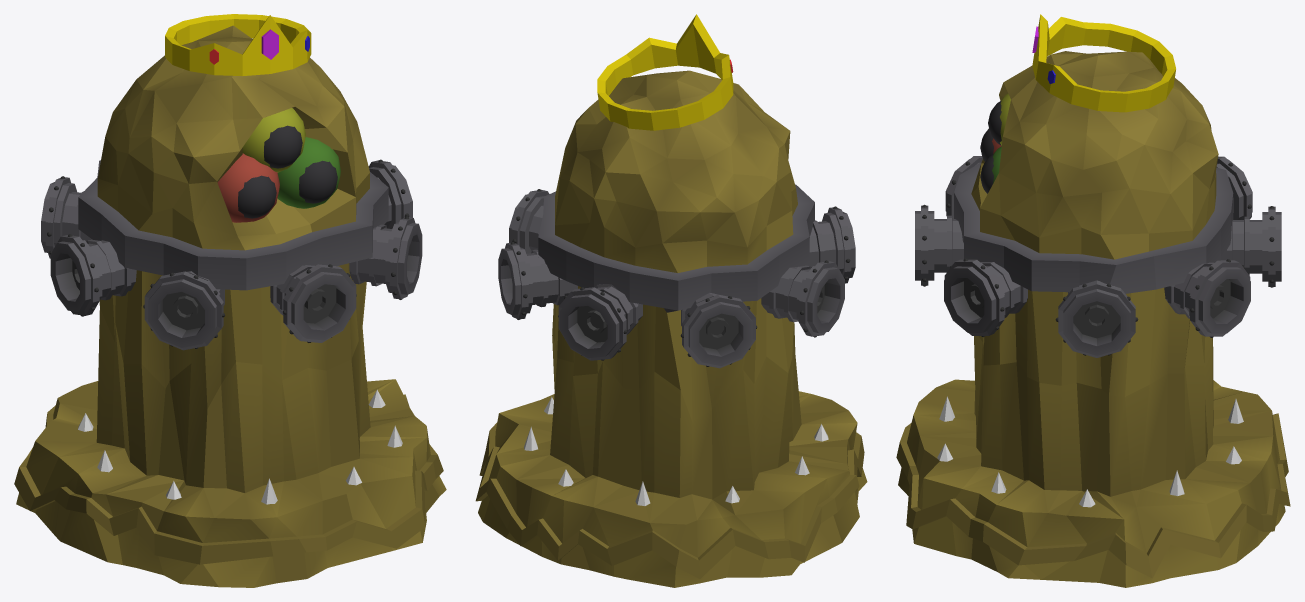
Rendered from Boss.fbx.
3 views of the same model, side by side, from view 1: azimuth 30°, elevation 25°; view 2: azimuth 150°, elevation 25°; view 3: azimuth 270°, elevation 25° (orthographic). The views are drawn at different scales.
Parts seen in each view (by area): view 1: Boss; view 2: Boss; view 3: Boss.
Boxes of the visible parts, bbox=[...] form: Boss: bbox=[14, 14, 446, 587]; Boss: bbox=[475, 14, 867, 587]; Boss: bbox=[896, 14, 1290, 587].
Bounding box in the file's own units: 493 × 648 × 474.
